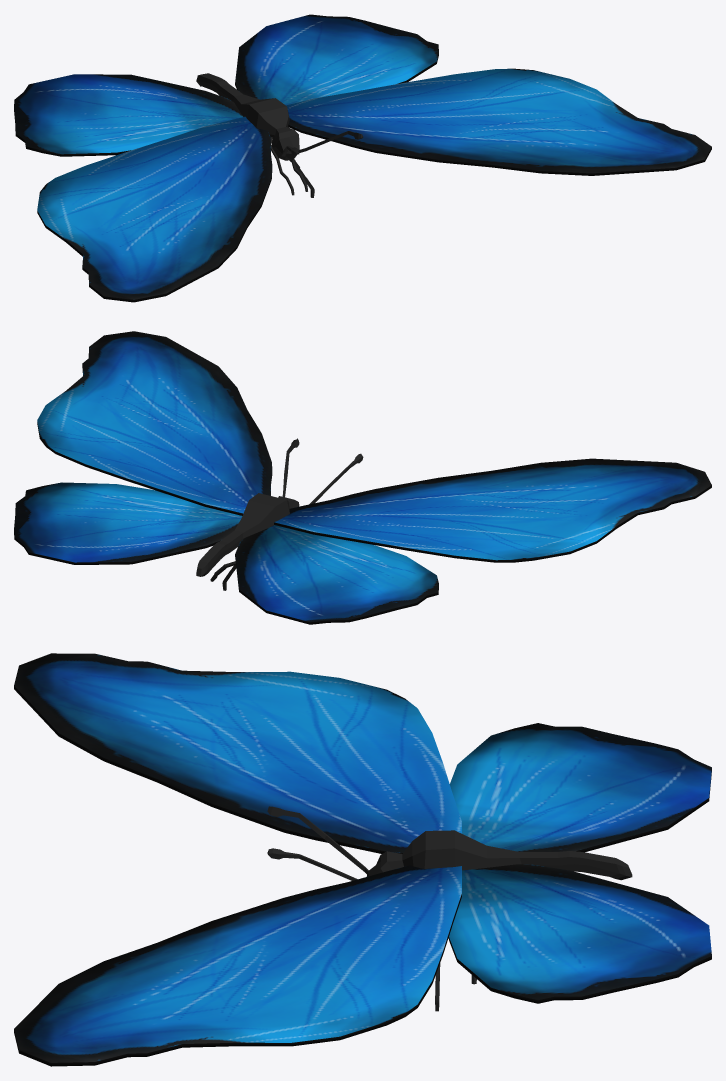
File: butterfly-0.fbx
3 renders of one model, top to bottom at view 1: azimuth 30°, elevation 25°; view 2: azimuth 150°, elevation 25°; view 3: azimuth 270°, elevation 25°, orthographic. The views are drawn at different scales.
Visible parts, largest first — view 1: wing-0, wing-1, Object_11; view 2: wing-1, wing-0, Object_11; view 3: wing-1, wing-0, Object_11.
Part boxes in pixels (x1=…): wing-0: x1=235, y1=14, x2=711, y2=175; wing-1: x1=14, y1=74, x2=272, y2=302; Object_11: x1=196, y1=73, x2=363, y2=197; wing-1: x1=235, y1=458, x2=711, y2=624; wing-0: x1=14, y1=331, x2=272, y2=564; Object_11: x1=196, y1=438, x2=363, y2=590; wing-1: x1=14, y1=653, x2=711, y2=853; wing-0: x1=14, y1=864, x2=711, y2=1066; Object_11: x1=267, y1=806, x2=632, y2=1011.
Size of the model in its own units: 97.53 by 17 by 69.95.
Materials: 2 (1 with a texture image).
